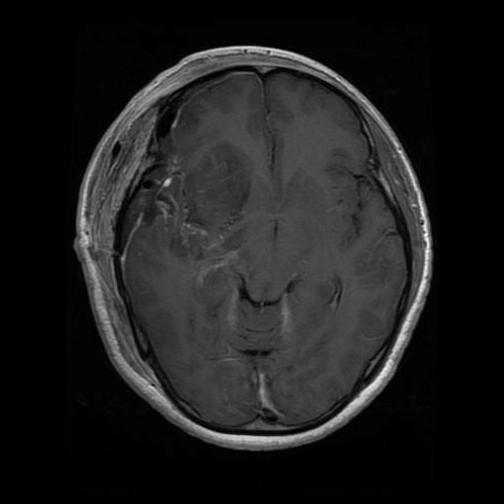Tumour-Glioma: (142, 147, 227, 257)
